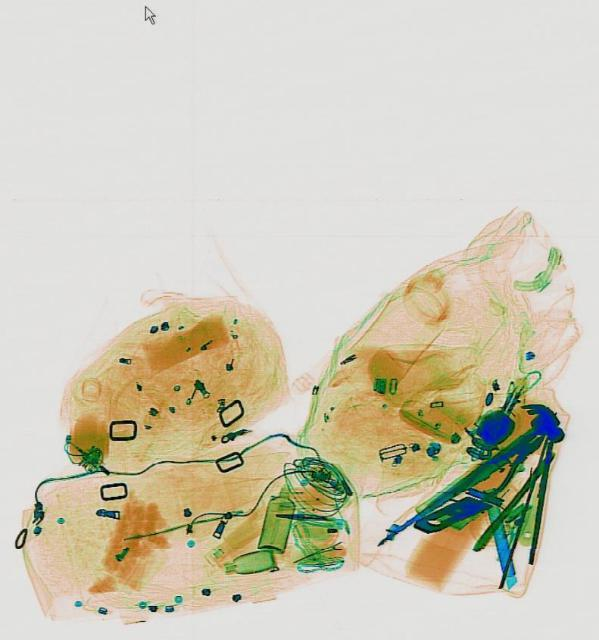Pliers: (447, 416, 554, 514)
